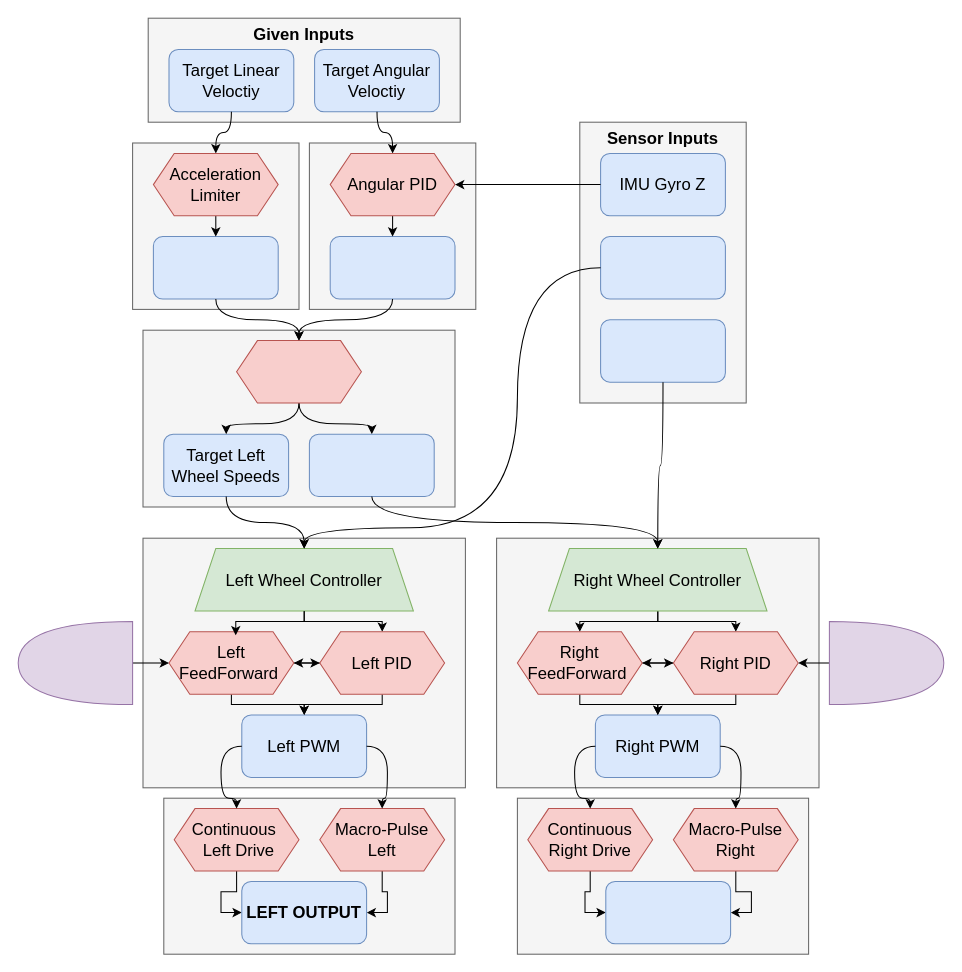
Image size: 962x972. Some labels were removed from this diagram. Here are the shapes that lost their labels. From the top down, the box of each, then its label:
(152, 236, 278, 299): Updated Linear Velocity
(329, 236, 455, 299): Updated Angular Veloctiy
(600, 236, 725, 299): Left Wheel Speed
(600, 319, 725, 382): Right Wheel Speed
(236, 340, 361, 403): Differential Kinematics
(308, 433, 434, 497): Target Right Wheel Speeds
(17, 620, 133, 705): Left FeedForward MAP
(828, 620, 944, 705): Right FeedForward MAP
(605, 880, 731, 944): RIGHT OUTPUT
